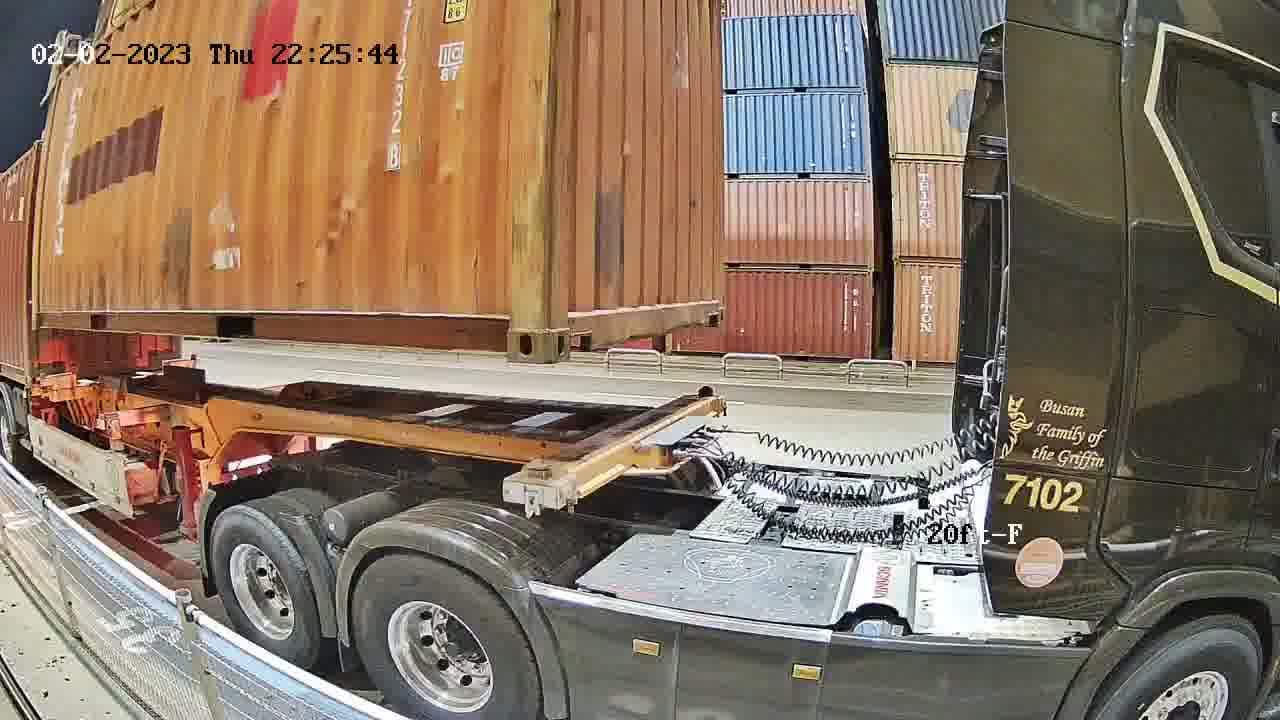Chassis: (507, 395, 723, 509)
Cone: (514, 456, 558, 518), (692, 384, 718, 402)
Hole_L: (548, 292, 605, 364)
Hole_R: (473, 291, 549, 365), (700, 284, 726, 323)
Tire: (350, 557, 538, 718), (210, 507, 320, 672)
